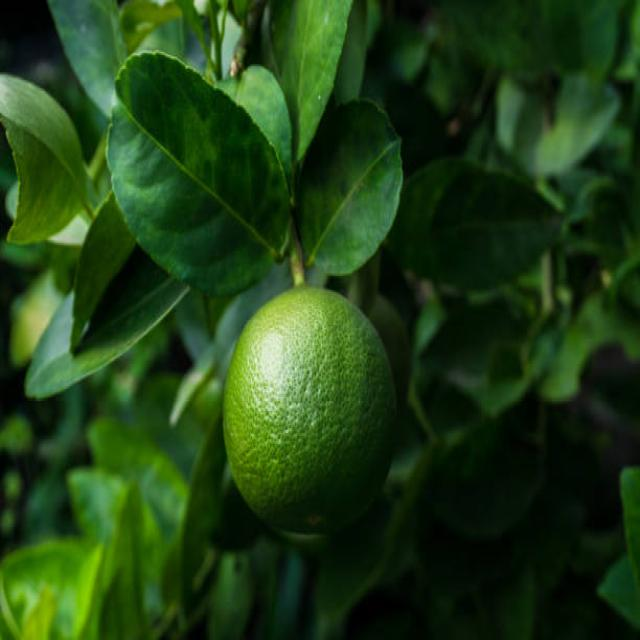Unripe: (222, 282, 399, 534)
